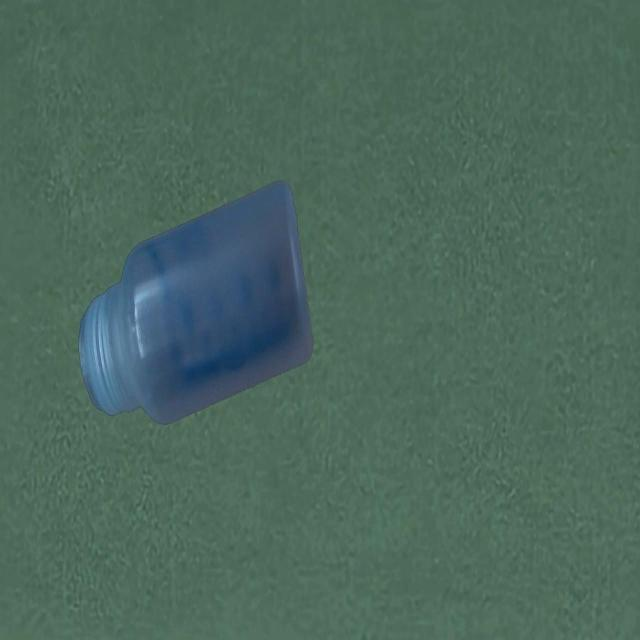bottle: (78, 175, 316, 424)
